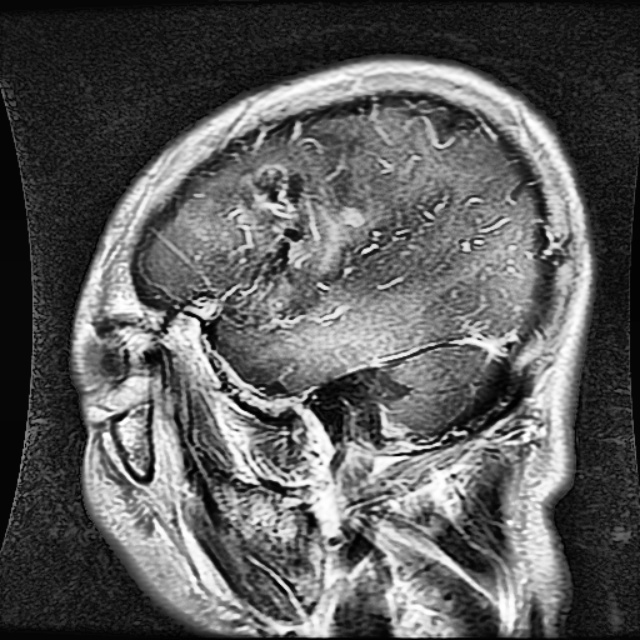Meningioma: (232, 155, 378, 322)
